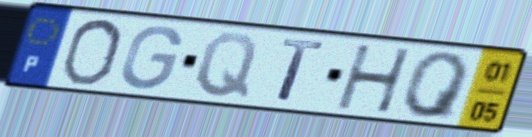G: (118, 23, 186, 93)
H: (334, 43, 415, 116)
O: (57, 17, 126, 88)
Q: (400, 50, 473, 122), (192, 30, 261, 101)
T: (274, 36, 328, 106)
